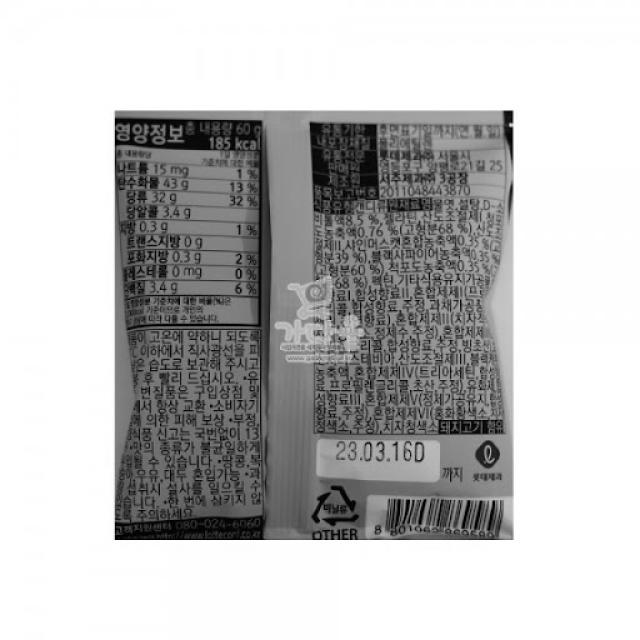Nutrition Label: (112, 113, 266, 327)
